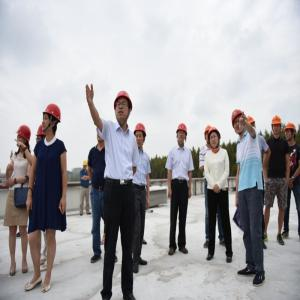red: (114, 91, 133, 127), (43, 104, 62, 137), (16, 126, 32, 151), (232, 110, 246, 136), (135, 123, 148, 150), (176, 124, 189, 147), (37, 125, 47, 145)
yellow: (209, 129, 222, 149), (284, 124, 297, 143), (272, 115, 283, 137), (205, 125, 212, 146), (84, 161, 89, 172)
